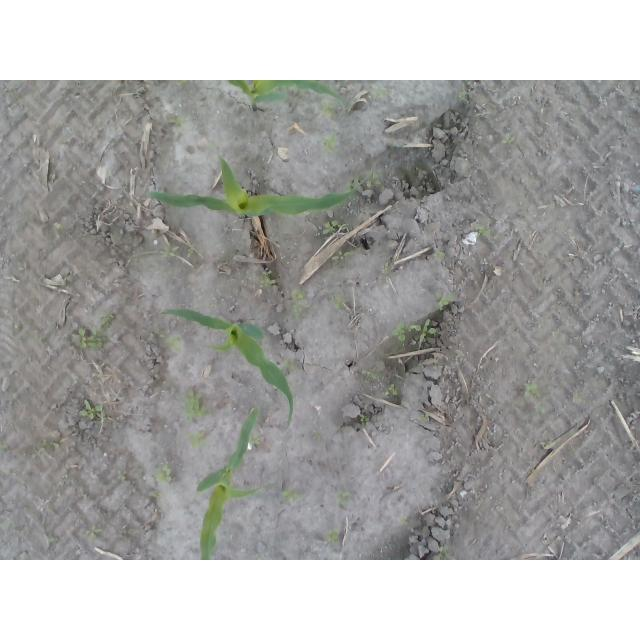Maize: (163, 308, 297, 425), (145, 152, 364, 220), (195, 405, 259, 560), (227, 80, 349, 112)
Weeds: (392, 320, 439, 345), (184, 388, 209, 424), (72, 327, 105, 349), (433, 288, 456, 313), (79, 398, 106, 418), (160, 328, 182, 352), (152, 464, 173, 487), (290, 287, 305, 318), (182, 432, 208, 449), (360, 368, 384, 385), (522, 383, 543, 402), (321, 96, 339, 117), (80, 527, 103, 543), (95, 310, 113, 329), (281, 489, 303, 504), (383, 384, 401, 401), (335, 490, 354, 506), (321, 220, 339, 236), (256, 271, 272, 289), (160, 242, 177, 258), (362, 173, 381, 187), (324, 133, 337, 152), (332, 250, 353, 261), (168, 116, 185, 129), (345, 175, 359, 190), (432, 548, 448, 561), (417, 412, 433, 424), (476, 223, 488, 238), (335, 293, 345, 311), (327, 528, 338, 544), (249, 435, 265, 446), (283, 359, 297, 371), (434, 250, 447, 262), (373, 87, 386, 98), (501, 134, 514, 144), (359, 414, 369, 427), (48, 536, 64, 544), (117, 470, 128, 481), (53, 223, 64, 234), (176, 80, 189, 89), (48, 441, 64, 448), (543, 437, 553, 448), (399, 515, 409, 526), (246, 271, 257, 281), (416, 168, 428, 177), (129, 91, 144, 98), (184, 247, 193, 258), (312, 430, 321, 440), (208, 142, 216, 152), (224, 159, 232, 169), (149, 489, 159, 497), (383, 262, 390, 273)
